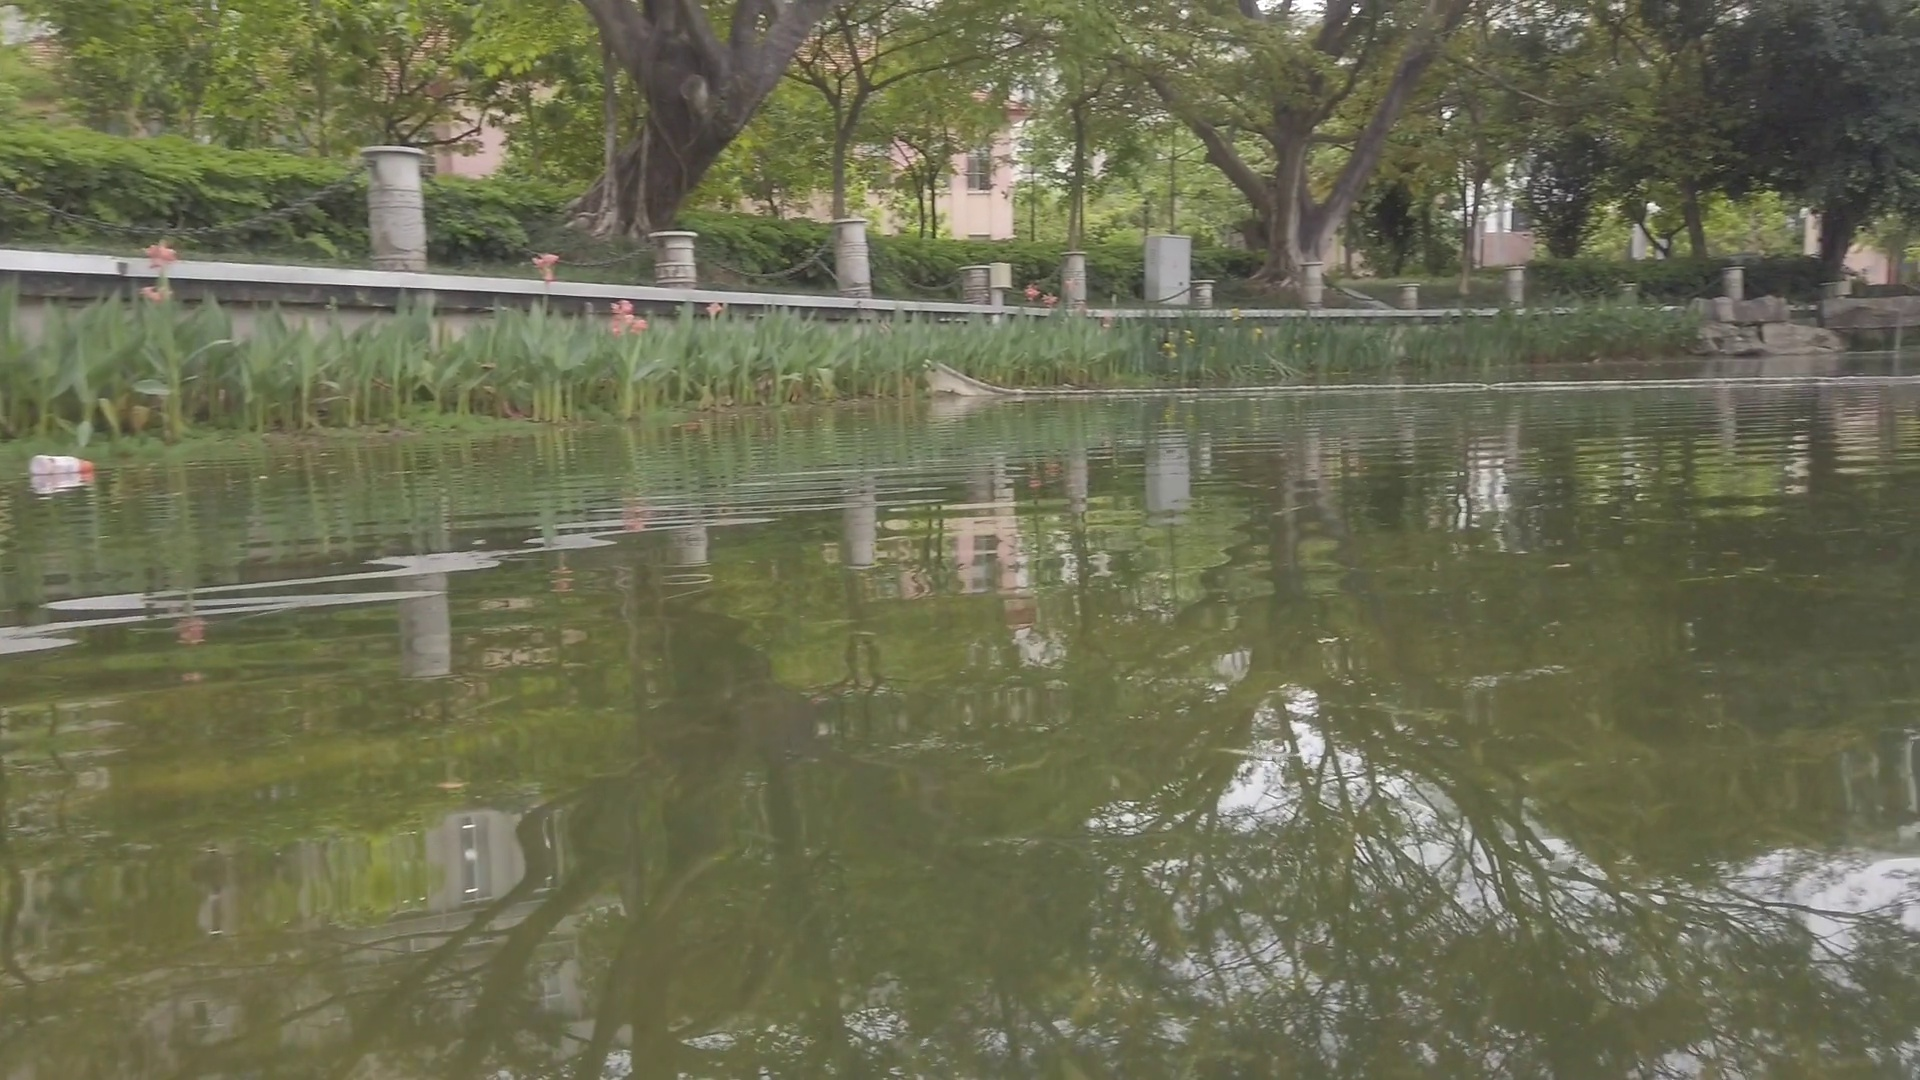bottle: (26, 452, 92, 475)
